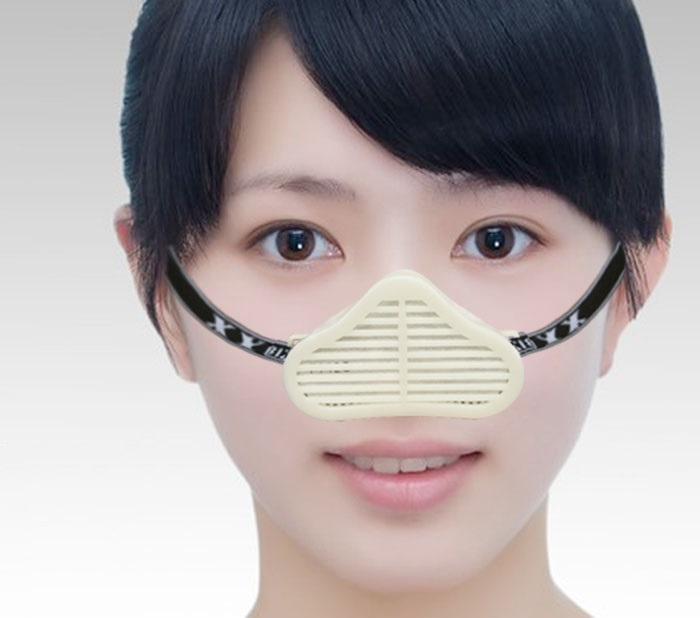face: (190, 24, 622, 594)
